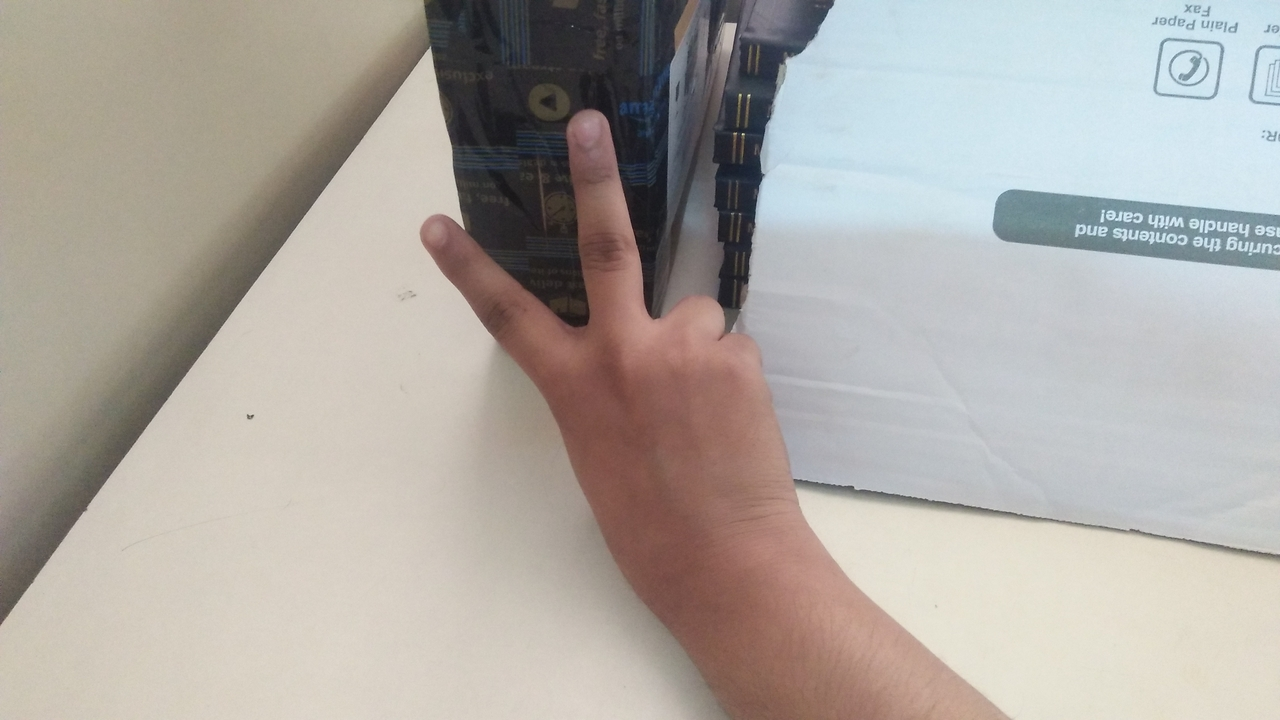fingertip: (558, 102, 620, 158), (408, 204, 468, 254)
